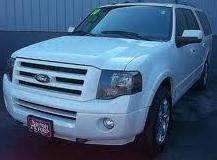front_view: (8, 57, 147, 145)
headlight: (94, 70, 147, 107)
side_glass: (170, 10, 203, 43)
